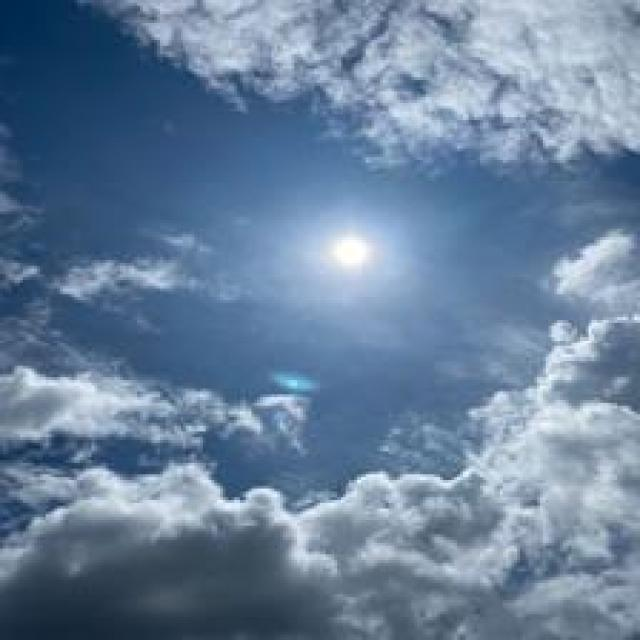sun: (331, 235, 370, 268)
